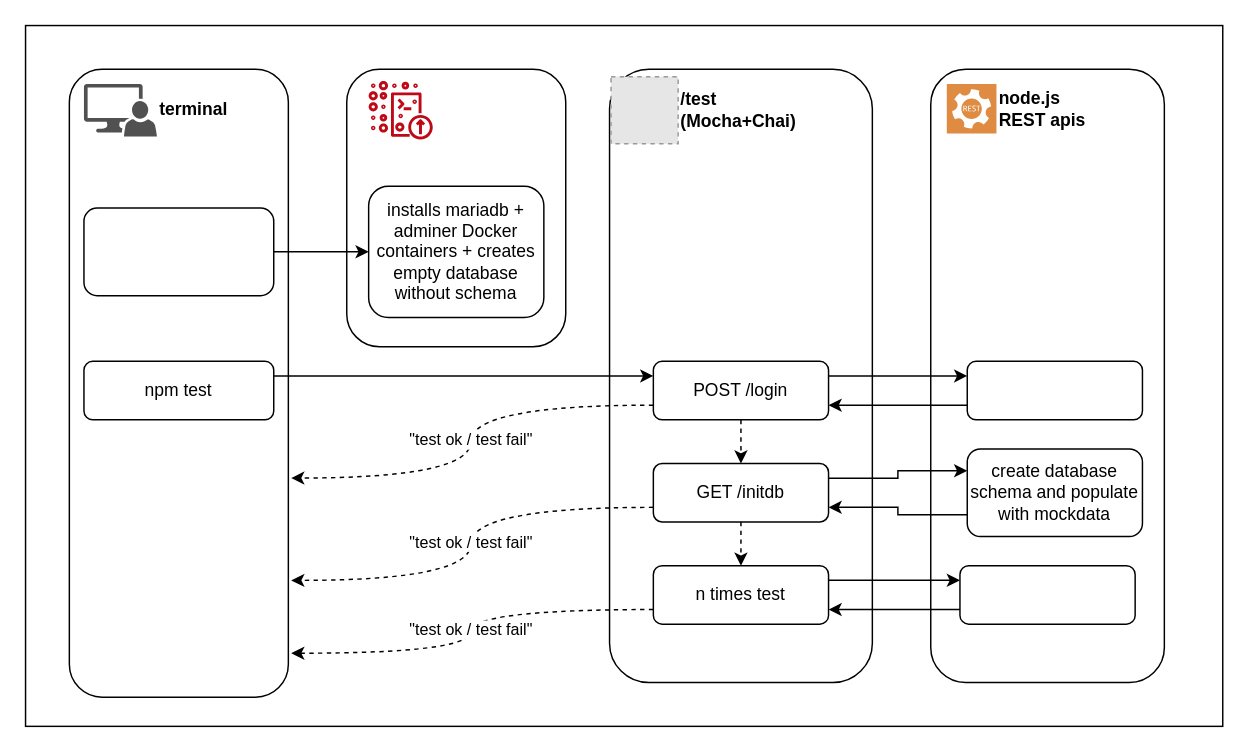
Some shapes in this 1248 by 752 pixel diagram are drawn without their labels. Grey dashed boxes stand in for pictures. Here are the shapes that lost their labels. From the top down, the box of each, then its label:
(368, 80, 432, 139): dev env
(82, 207, 274, 296): docker-compose up -d
(966, 360, 1142, 420): login and get Authorization token
(958, 564, 1135, 624): GET,POST,PUT, PATCH,DELETE
